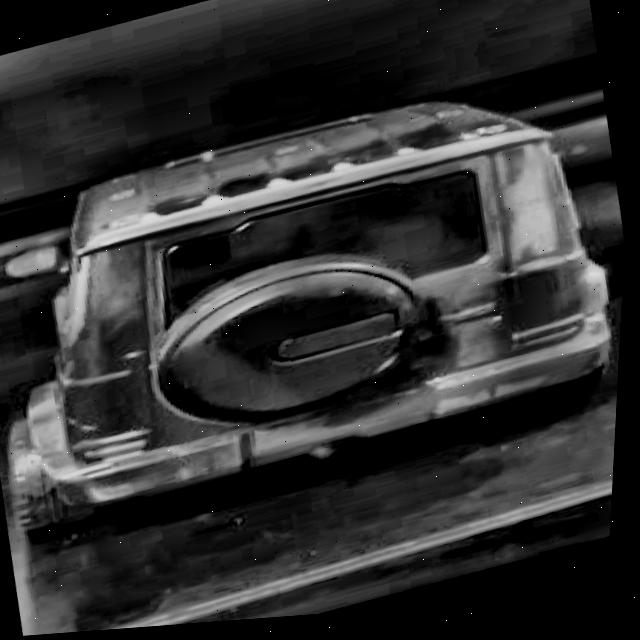light_vehicle: (0, 53, 636, 573)
